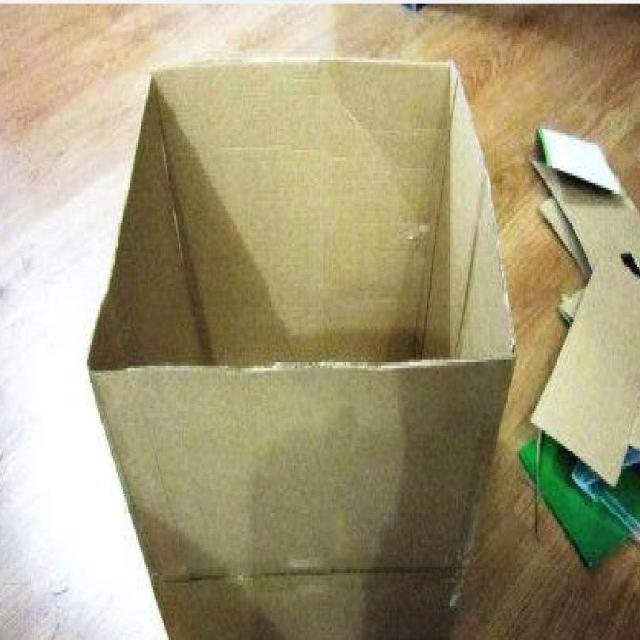cardboard: (88, 52, 514, 640), (520, 276, 640, 571), (524, 120, 640, 286)
